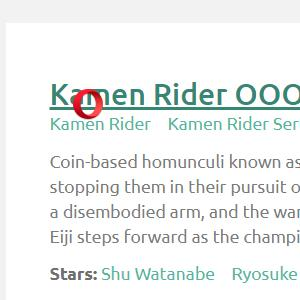opera: (73, 89, 103, 119)
